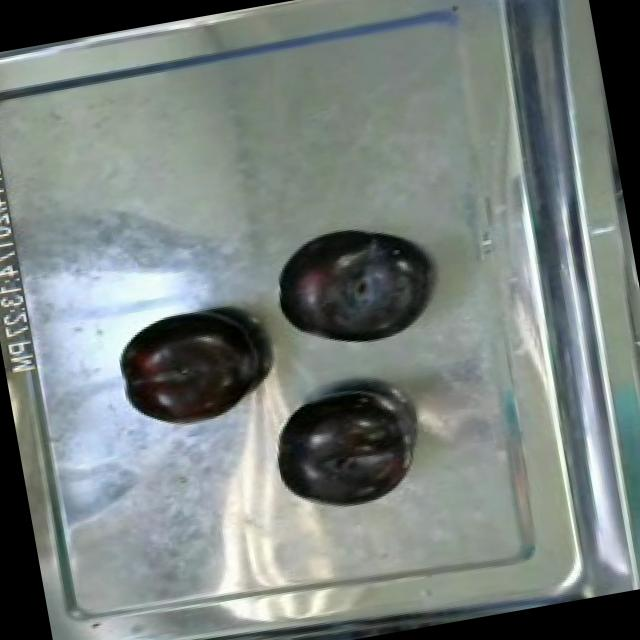Fruit: (263, 212, 438, 358), (262, 378, 422, 522), (106, 299, 264, 437)
